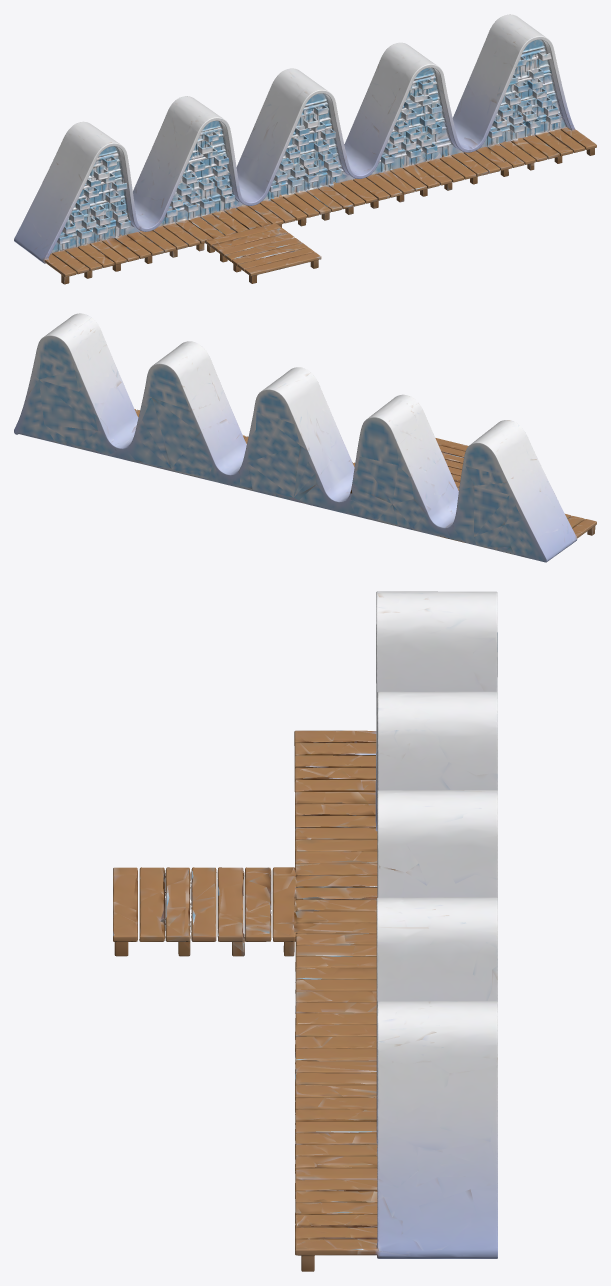
Rendered from wavenew.glb.
3 renders of one model, top to bottom at view 1: azimuth 30°, elevation 25°; view 2: azimuth 150°, elevation 25°; view 3: azimuth 270°, elevation 25°, orthographic. The views are drawn at different scales.
Bounding box in the file's own units: 1.9 × 0.3891 × 0.5956.
1 material, 1 textured.
